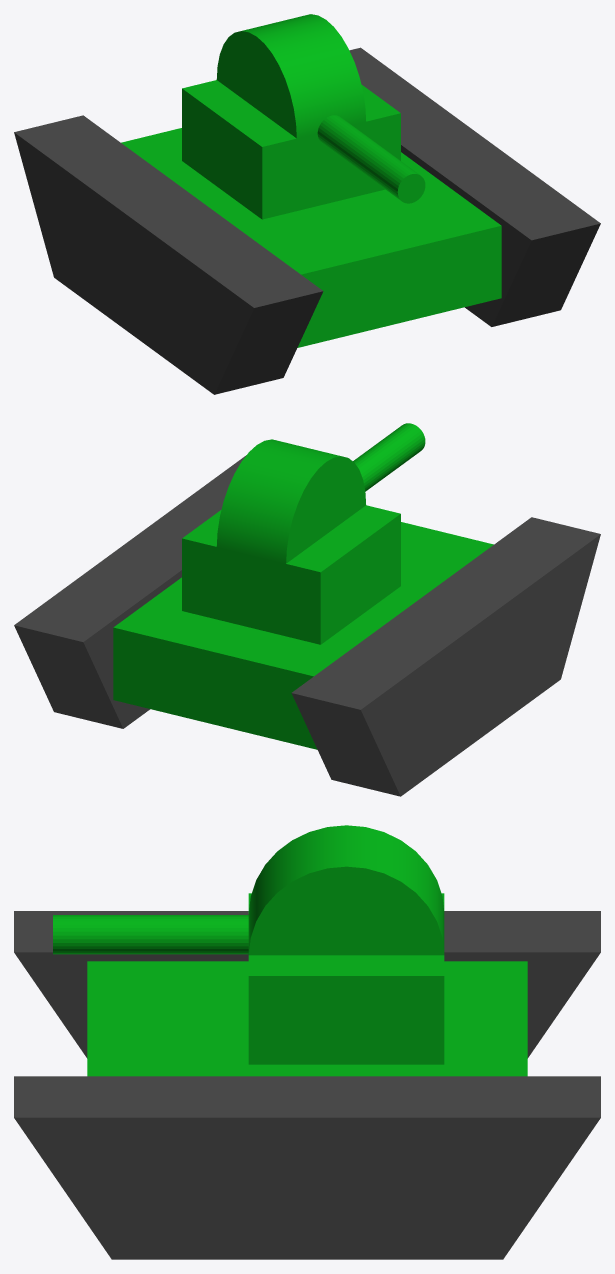
File: tank2.dae
The picture shows the model from 3 angles, top to bottom: view 1: azimuth 30°, elevation 25°; view 2: azimuth 150°, elevation 25°; view 3: azimuth 270°, elevation 25°; orthographic projection. The views are drawn at different scales.
Visible parts, largest first — view 1: CRAWLER_TRACK_R, CHASSIS, CRAWLER_TRACK_L, CANNON_Y, CANNON_P, Barrel; view 2: CRAWLER_TRACK_R, CHASSIS, CANNON_Y, CRAWLER_TRACK_L, CANNON_P, Barrel; view 3: CRAWLER_TRACK_L, CHASSIS, CANNON_P, CANNON_Y, CRAWLER_TRACK_R, Barrel.
Part boxes in pixels (x1,y1,x2,y2): CRAWLER_TRACK_R: (14, 115, 323, 394); CHASSIS: (121, 128, 501, 347); CRAWLER_TRACK_L: (349, 47, 600, 326); CANNON_Y: (182, 80, 400, 219); CANNON_P: (216, 14, 366, 138); Barrel: (317, 115, 425, 203); CRAWLER_TRACK_R: (291, 517, 600, 796); CHASSIS: (113, 522, 493, 749); CANNON_Y: (182, 505, 400, 644); CRAWLER_TRACK_L: (14, 455, 246, 728); CANNON_P: (216, 439, 365, 563); Barrel: (353, 423, 425, 491); CRAWLER_TRACK_L: (14, 1076, 600, 1259); CHASSIS: (87, 961, 527, 1076); CANNON_P: (248, 825, 444, 955); CANNON_Y: (248, 893, 444, 1064); CRAWLER_TRACK_R: (14, 911, 600, 1058); Barrel: (53, 915, 248, 954).
Bounding box in the file's own units: 0.5 × 0.6 × 0.35.
